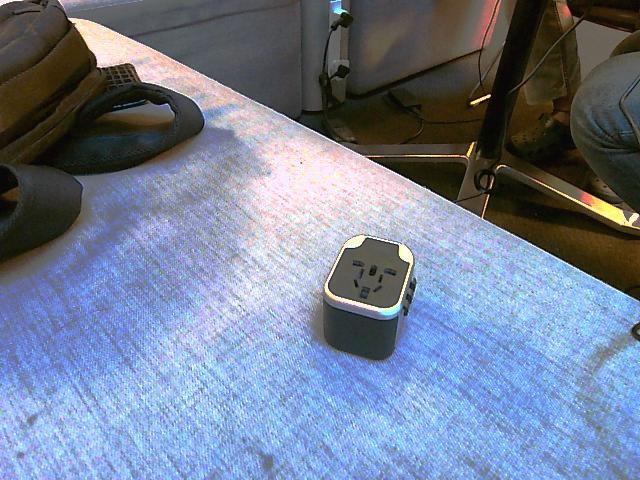adapter: (321, 232, 417, 360)
